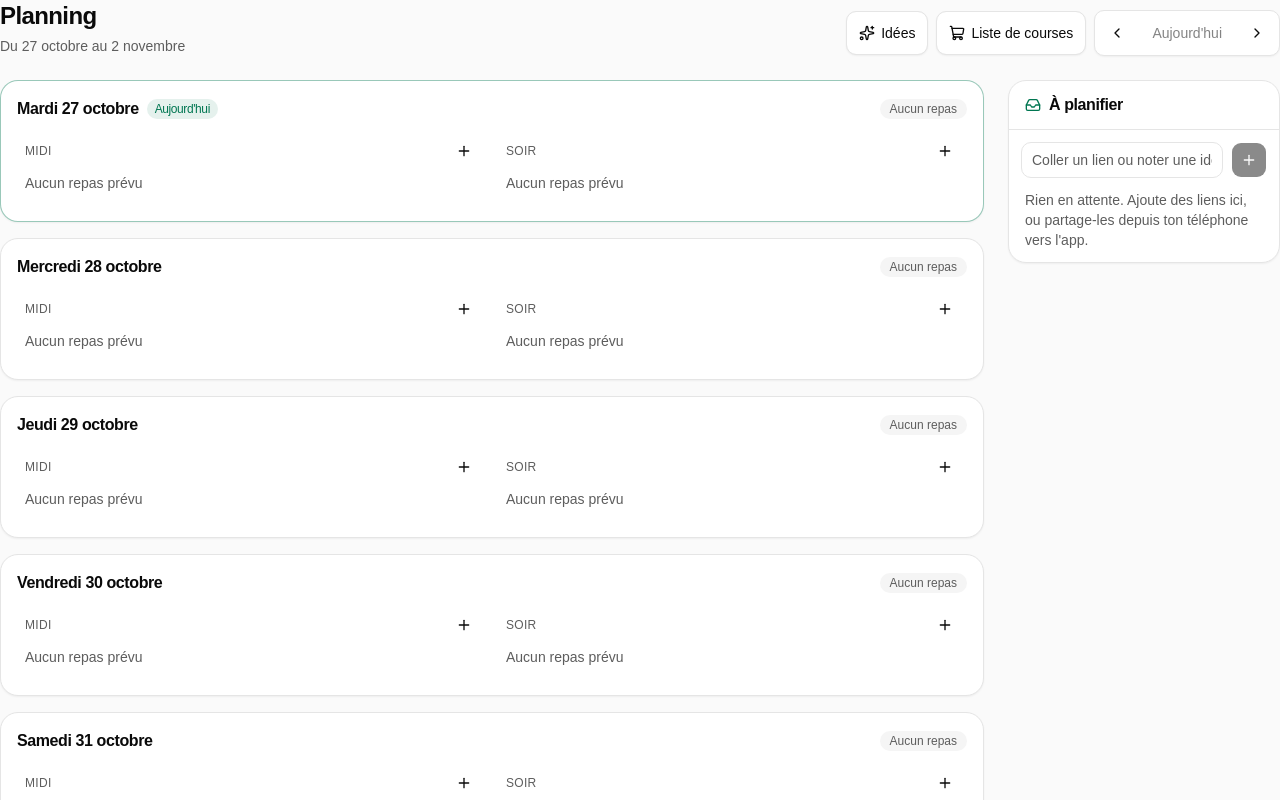
Test: PlanningPage — idées de repas › cherche des idées sans les recettes récentes, puis les affiche décochées
Click the button with aria-label "Idées de repas" at (887, 33), box [846,11,928,55]
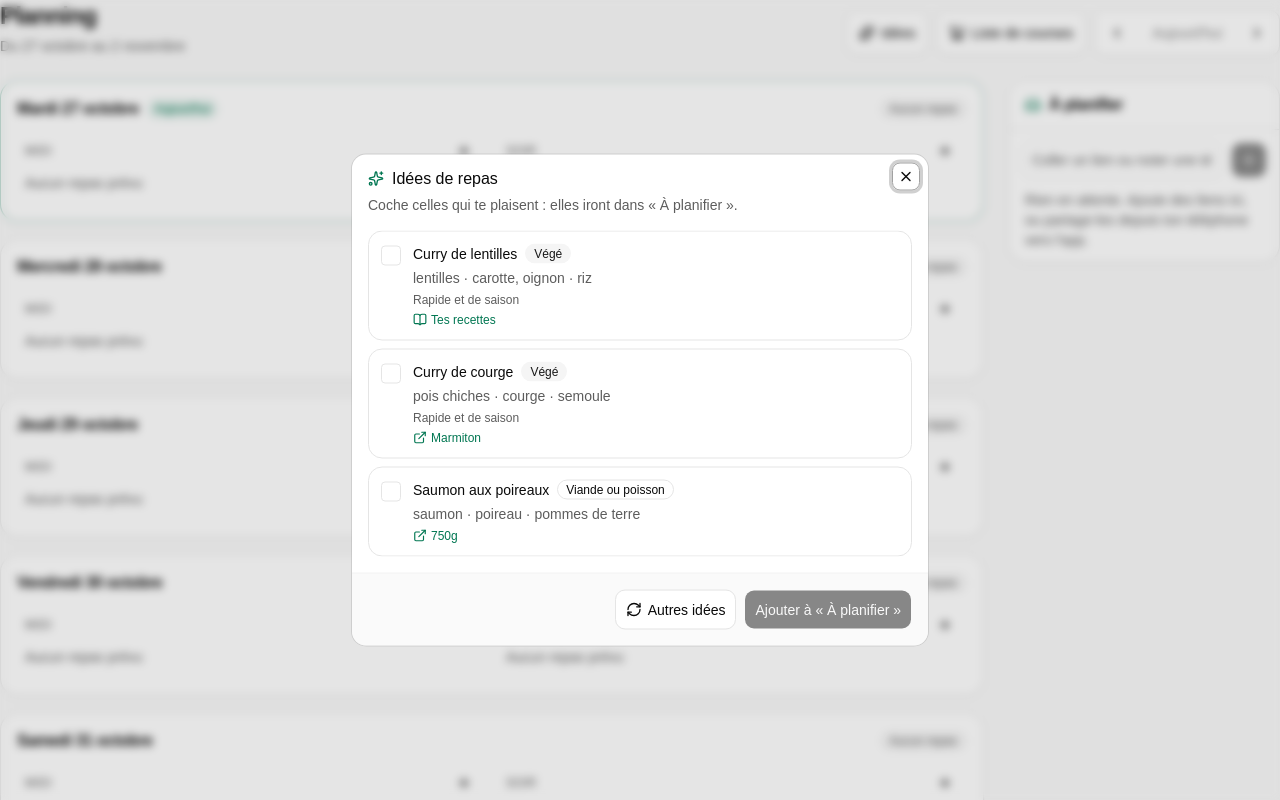
Expected: the number of list items is 3, [368,230,912,340]; [368,348,912,458]; [368,466,912,556]
Expected: the list item that starts with "Saumon aux poireaux" shows "Viande ou poisson", [566,482,665,496]
Expected: the button "Ajouter à « À planifier »" is disabled, [744,590,912,630]
